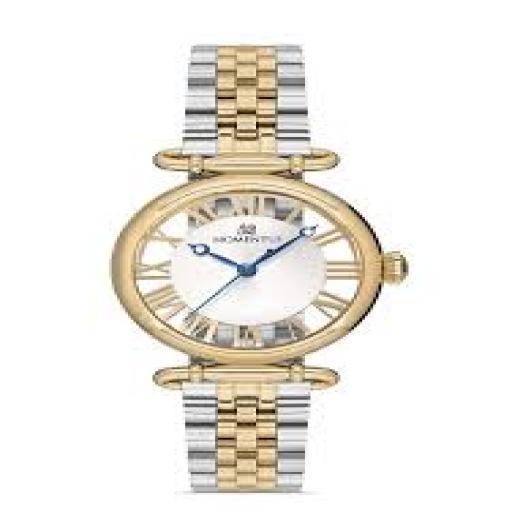KolSaati: (58, 36, 454, 504)
